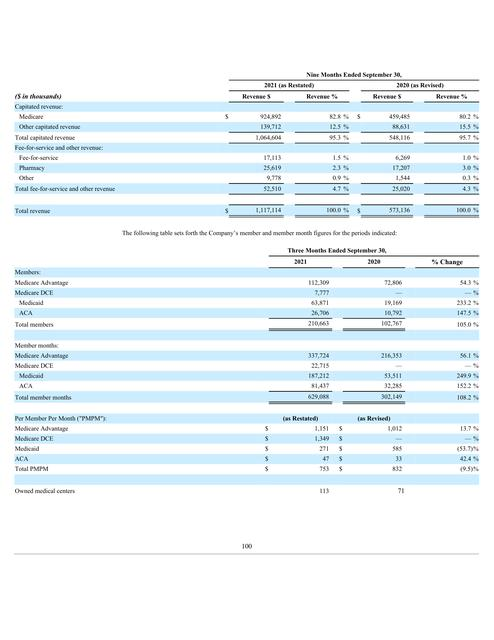box: (11, 247, 482, 487), (14, 72, 482, 222)
